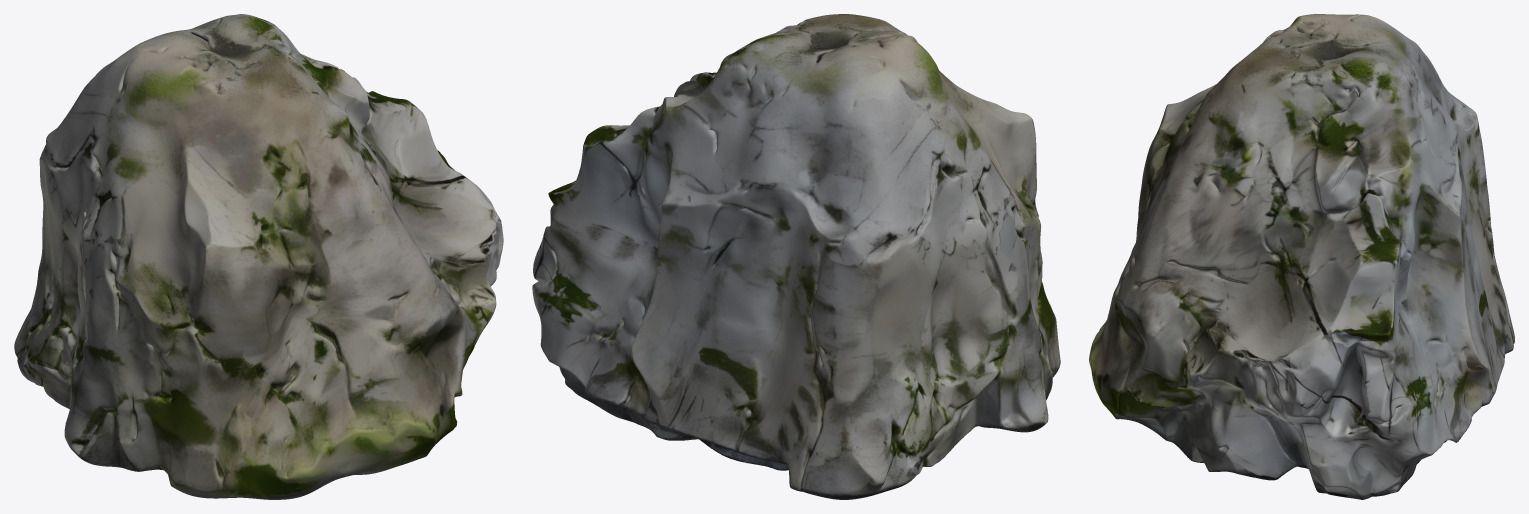
File: rock.glb
3 renders of one model, left to right at view 1: azimuth 30°, elevation 25°; view 2: azimuth 150°, elevation 25°; view 3: azimuth 270°, elevation 25°, orthographic. The views are drawn at different scales.
Parts seen in each view (by area): view 1: tripo_node_37f7804a-7f06-4367-8dda-d790ec9da72f; view 2: tripo_node_37f7804a-7f06-4367-8dda-d790ec9da72f; view 3: tripo_node_37f7804a-7f06-4367-8dda-d790ec9da72f.
Part boxes in pixels (left/top/right/bottom): tripo_node_37f7804a-7f06-4367-8dda-d790ec9da72f: left=14, top=14, right=503, bottom=499; tripo_node_37f7804a-7f06-4367-8dda-d790ec9da72f: left=532, top=14, right=1060, bottom=499; tripo_node_37f7804a-7f06-4367-8dda-d790ec9da72f: left=1089, top=14, right=1514, bottom=499.
Bounding box in the file's own units: 1 × 0.8583 × 0.8822.
1 material, 1 textured.
